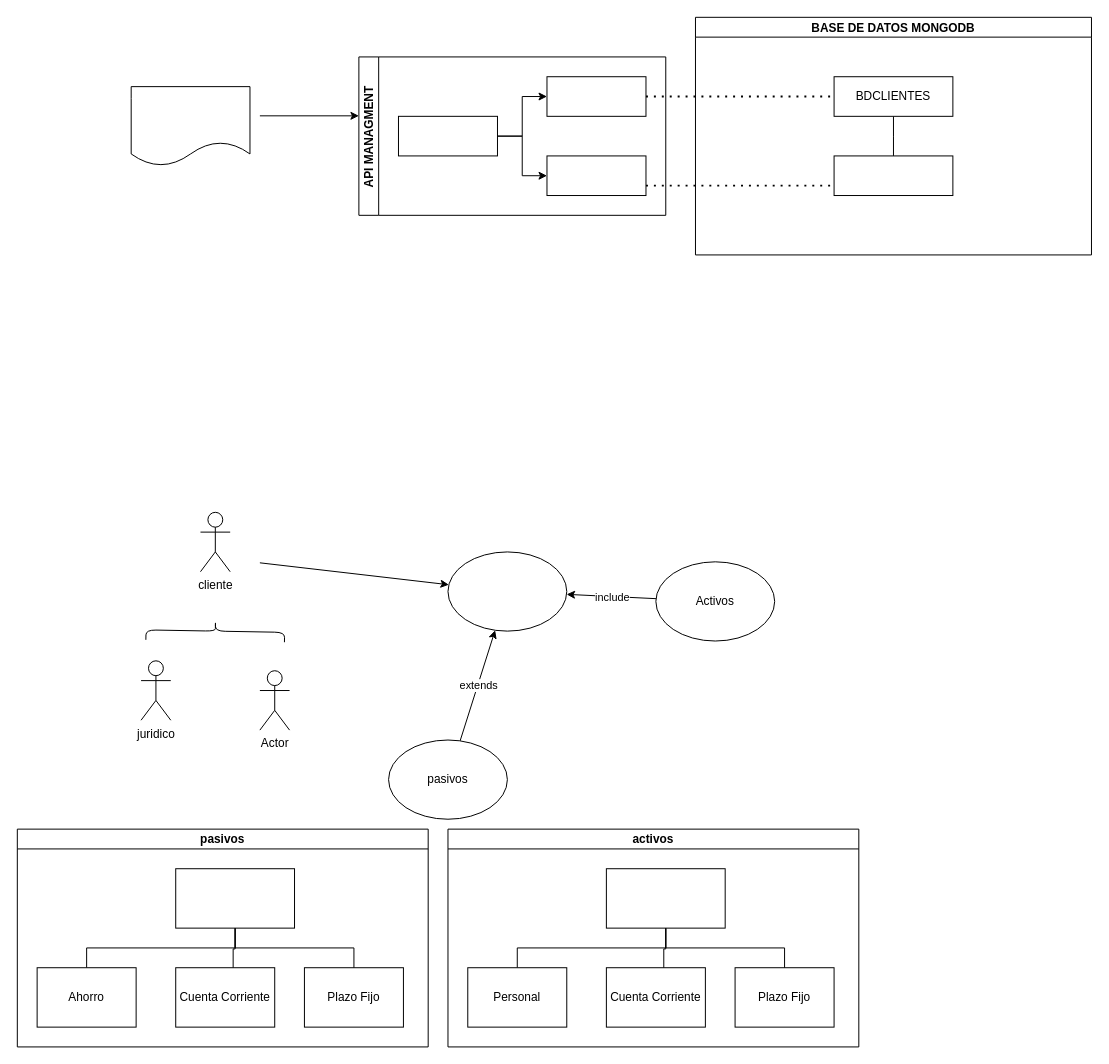
Some shapes in this 1109 by 1064 pixel diagram are drawn without their labels. The shapes that lost their labels are listed below. From the top down, each one's centre as x and y in pixels, then its label:
At (x=596, y=96): "MICROSERVICIO CLIENTE".
At (x=190, y=126): "SOLICITUD CONSULTA".
At (x=447, y=135): "SPRING CLOUD GATEWAY".
At (x=596, y=175): "MICROSERVICIO CUENTAS".
At (x=893, y=175): "BDCUENTAS".
At (x=507, y=591): "Productos".
At (x=235, y=898): "Cuentas bancarias".
At (x=665, y=898): "Creditos".
